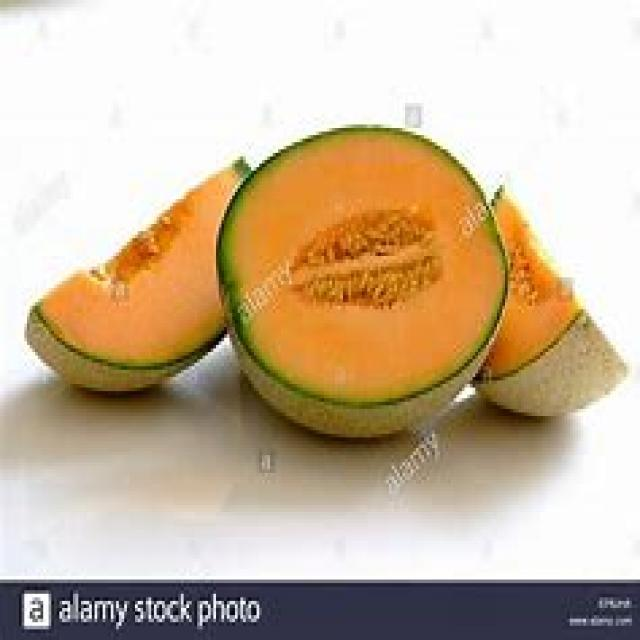Hami Melon: (217, 123, 510, 442)
